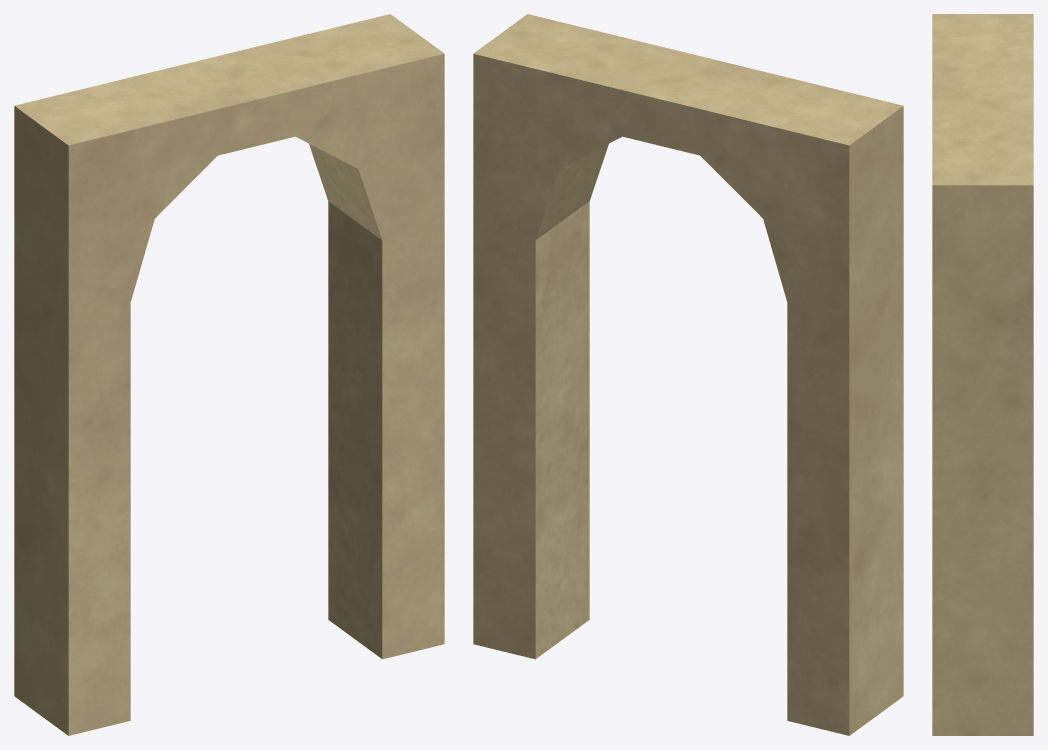
Rendered from sm_window.fbx.
3 views of the same model, side by side, from view 1: azimuth 30°, elevation 25°; view 2: azimuth 150°, elevation 25°; view 3: azimuth 270°, elevation 25° (orthographic). The views are drawn at different scales.
Parts seen in each view (by area): view 1: Wall_Window; view 2: Wall_Window; view 3: Wall_Window.
Boxes of the visible parts, box(x1,y1,x2,y2) form: Wall_Window: box(14, 14, 444, 735); Wall_Window: box(473, 14, 903, 735); Wall_Window: box(932, 14, 1033, 735).
Bounding box in the file's own units: 2 × 3 × 0.5.
